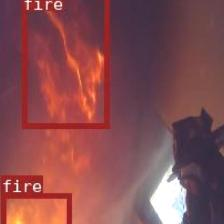fire: (22, 0, 108, 127), (0, 192, 70, 223)
